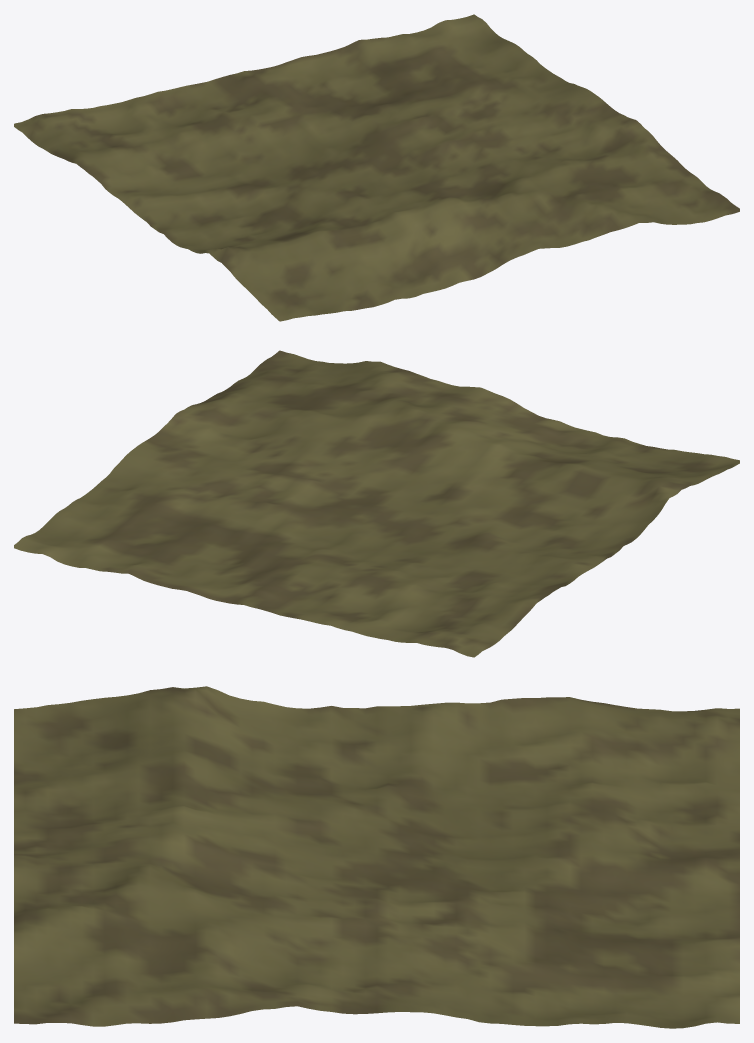
The model's file is land_f_08_08.glb.
The picture shows the model from 3 angles, top to bottom: view 1: azimuth 30°, elevation 25°; view 2: azimuth 150°, elevation 25°; view 3: azimuth 270°, elevation 25°; orthographic projection. The views are drawn at different scales.
Visible parts, largest first — view 1: land_f_08_08; view 2: land_f_08_08; view 3: land_f_08_08.
Part boxes in pixels (x1,y1,x2,y2): land_f_08_08: (14,14,739,321); land_f_08_08: (14,350,739,657); land_f_08_08: (14,686,739,1028).
Size of the model in its own units: 3840 by 251 by 3840.
